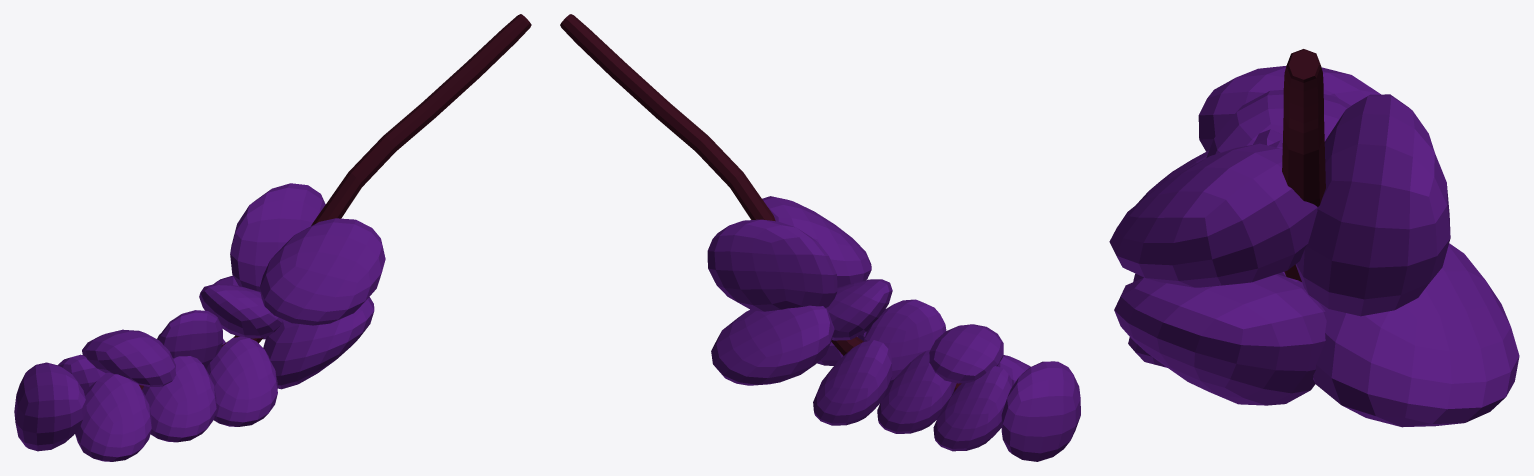
The model's file is Grape.gltf.
3 renders of one model, left to right at view 1: azimuth 30°, elevation 25°; view 2: azimuth 150°, elevation 25°; view 3: azimuth 270°, elevation 25°, orthographic. The views are drawn at different scales.
Visible parts, largest first — view 1: Cube.011, Cube, Cube.013, Cube.003, Cube.009, Cube.001, Cube.010, Cube.002, Cube.007, Cube.012, Cube.008, Cube.004; view 2: Cube.013, Cube.014, Cube.009, Cube, Cube.006, Cube.004, Cube.005, Cube.008, Cube.011, Cube.007, Cube.012; view 3: Cube.013, Cube.014, Cube.011, Cube.010, Cube, Cube.009, Cube.007.
Boxes of the visible parts, bbox=[...] form: Cube.011: bbox=[259, 218, 385, 325]; Cube: bbox=[139, 14, 531, 389]; Cube.013: bbox=[230, 183, 325, 291]; Cube.003: bbox=[75, 372, 151, 461]; Cube.009: bbox=[14, 362, 86, 451]; Cube.001: bbox=[206, 336, 277, 426]; Cube.010: bbox=[263, 297, 374, 389]; Cube.002: bbox=[142, 356, 216, 442]; Cube.007: bbox=[82, 329, 176, 386]; Cube.012: bbox=[199, 284, 283, 338]; Cube.008: bbox=[159, 310, 223, 368]; Cube.004: bbox=[57, 354, 105, 395]; Cube.013: bbox=[707, 219, 837, 311]; Cube.014: bbox=[711, 305, 834, 385]; Cube.009: bbox=[1001, 361, 1080, 461]; Cube: bbox=[560, 14, 961, 391]; Cube.006: bbox=[813, 340, 892, 425]; Cube.004: bbox=[933, 366, 1012, 451]; Cube.005: bbox=[877, 350, 956, 433]; Cube.008: bbox=[863, 299, 946, 384]; Cube.011: bbox=[762, 196, 871, 287]; Cube.007: bbox=[929, 324, 1003, 383]; Cube.012: bbox=[825, 279, 892, 340]; Cube.013: bbox=[1295, 94, 1450, 316]; Cube.014: bbox=[1313, 243, 1519, 427]; Cube.011: bbox=[1109, 143, 1317, 287]; Cube.010: bbox=[1114, 274, 1326, 405]; Cube: bbox=[1282, 49, 1325, 281]; Cube.009: bbox=[1198, 66, 1380, 151]; Cube.007: bbox=[1206, 90, 1350, 157].
Size of the model in its own units: 5.75 by 3.45 by 2.
Materials: 2 (1 with a texture image).
